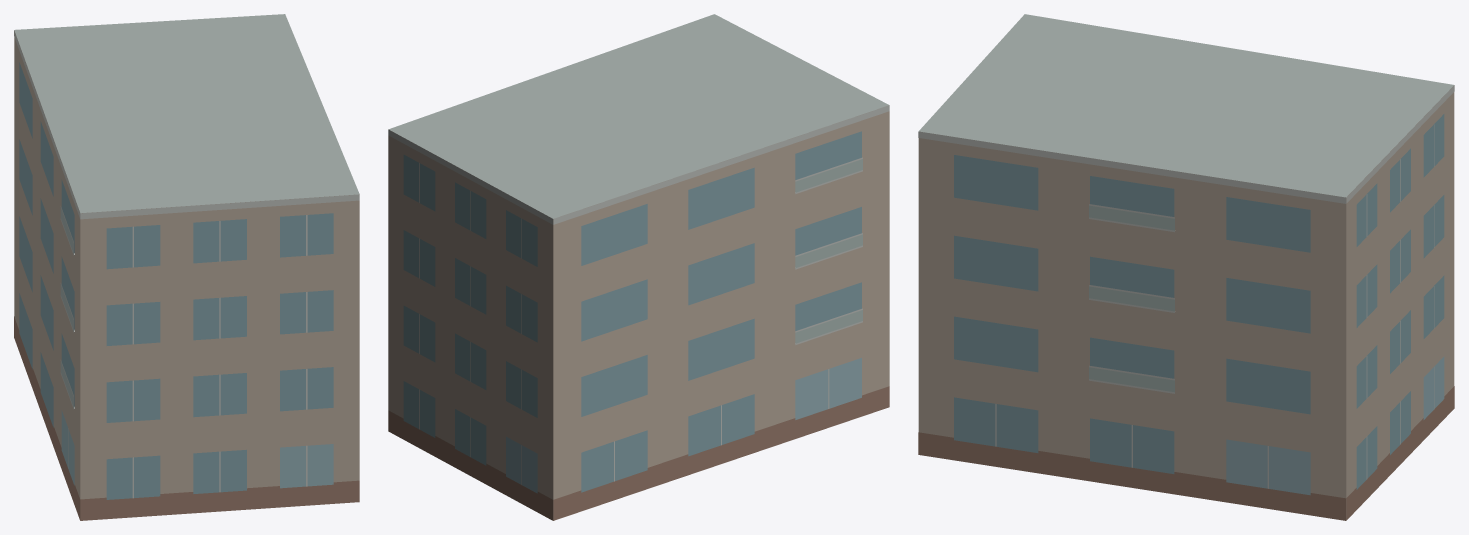
File: survey-upis-32839675.glb
The picture shows the model from 3 angles, left to right: view 1: azimuth 30°, elevation 25°; view 2: azimuth 150°, elevation 25°; view 3: azimuth 270°, elevation 25°; orthographic projection. The views are drawn at different scales.
Parts seen in each view (by area): view 1: survey-upis-32839675.tmp; view 2: survey-upis-32839675.tmp; view 3: survey-upis-32839675.tmp.
Part boxes in pixels (x1,y1,x2,y2): survey-upis-32839675.tmp: (14,14,359,520); survey-upis-32839675.tmp: (388,14,889,520); survey-upis-32839675.tmp: (918,14,1454,520).
Bounding box in the file's own units: 14.86 × 12.2 × 18.34.
